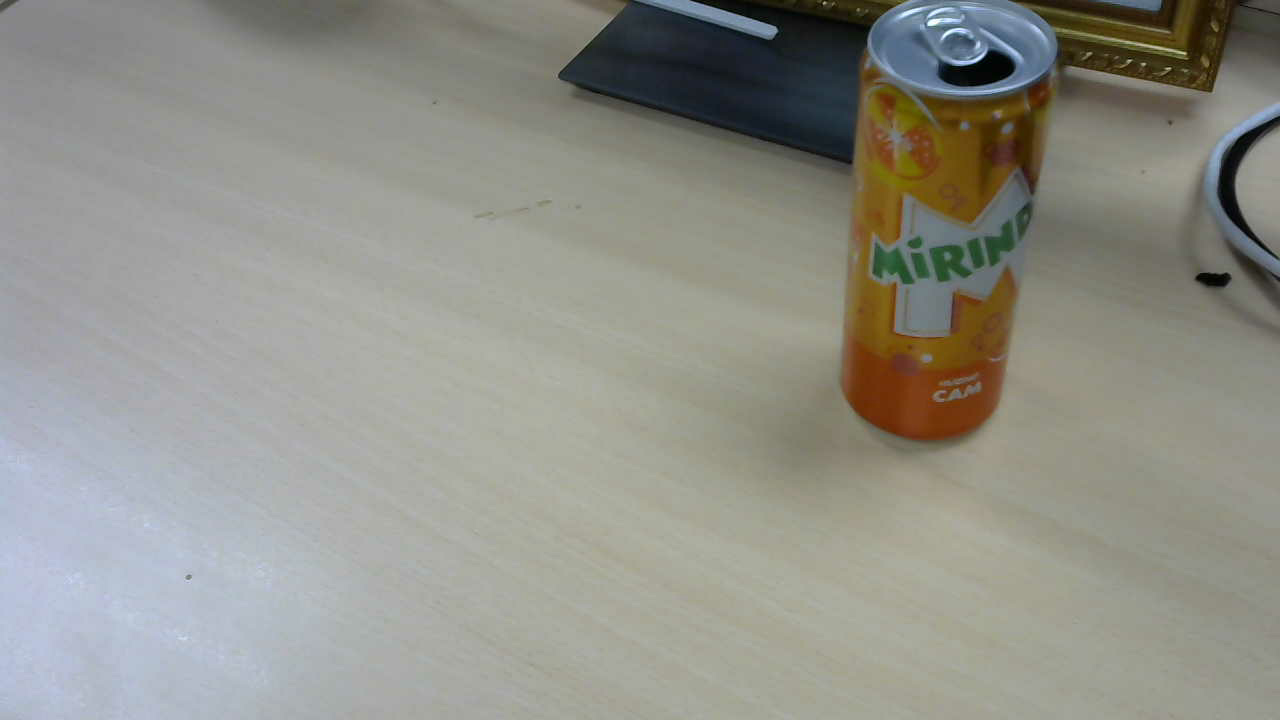Mirinda: (844, 8, 1061, 448)
